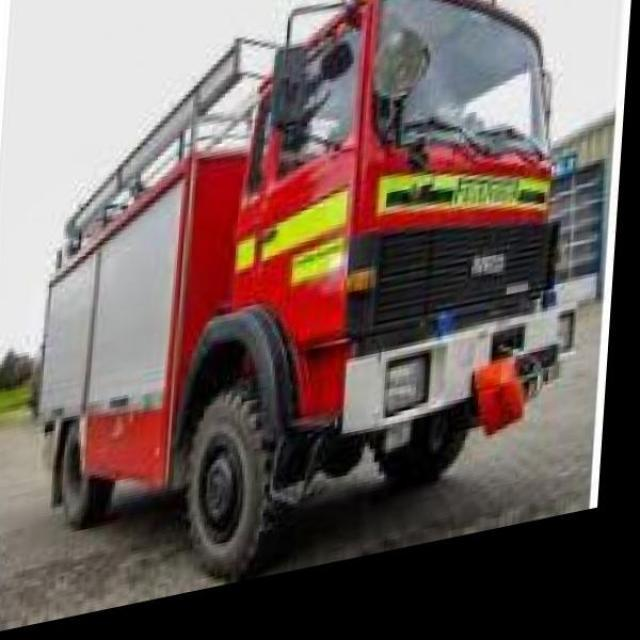emergency: (29, 1, 567, 580)
